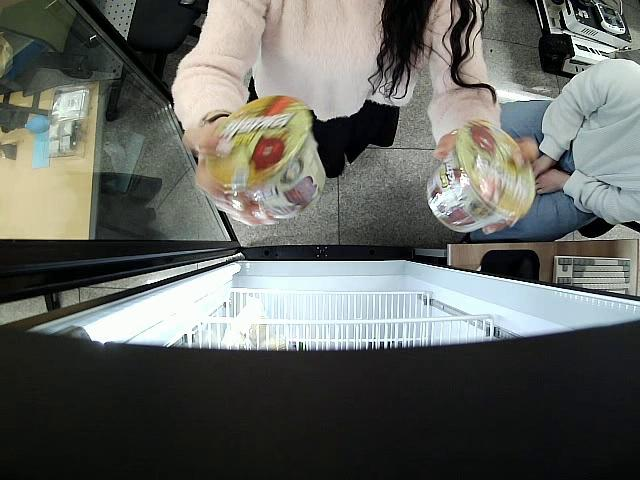00_hand: (434, 133, 537, 235), (182, 125, 279, 228)
04_chapagetti_S: (204, 97, 326, 216), (426, 121, 534, 231)
